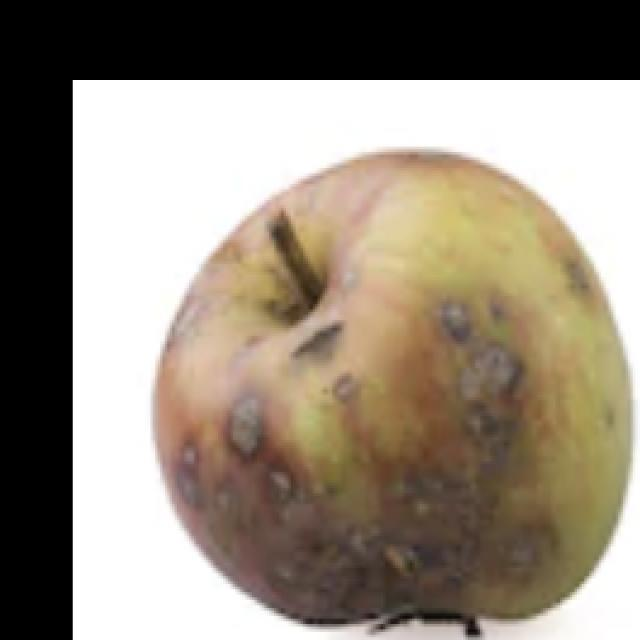Rotten: (160, 155, 640, 640)
